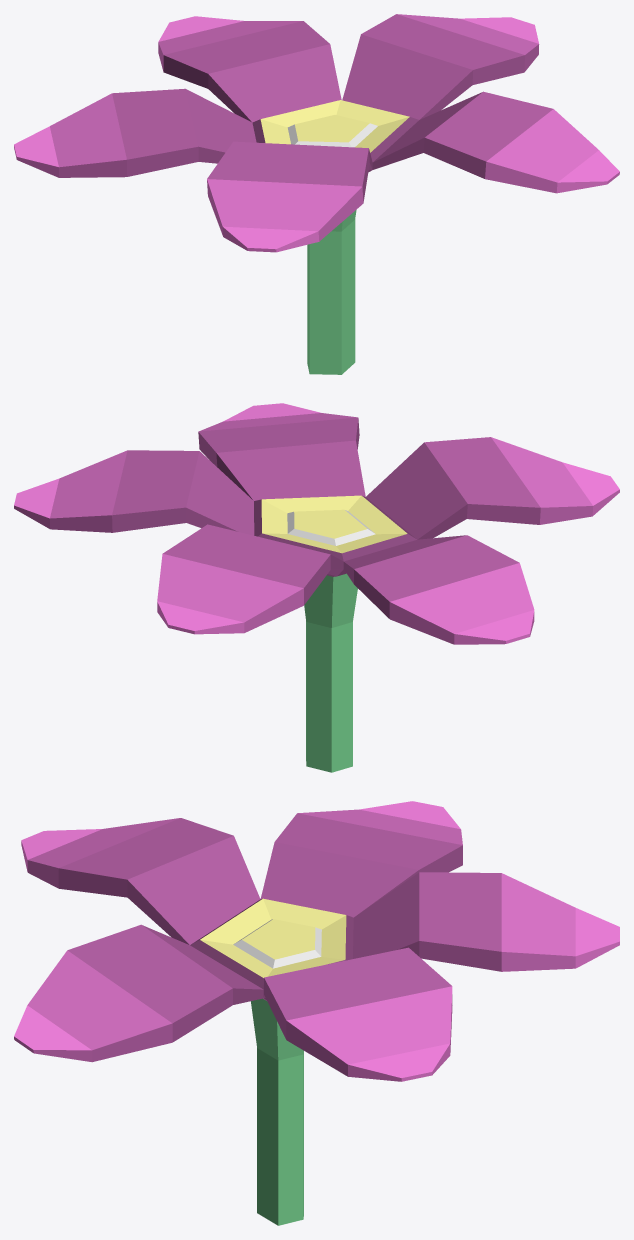
Rendered from Flower1.fbx.
3 views of the same model, one above another, from view 1: azimuth 30°, elevation 25°; view 2: azimuth 150°, elevation 25°; view 3: azimuth 270°, elevation 25° (orthographic). The views are drawn at different scales.
Visible parts, largest first — view 1: Cube; view 2: Cube; view 3: Cube.
Part boxes in pixels (x1,y1,x2,y2): Cube: (14, 14, 619, 374); Cube: (14, 403, 619, 772); Cube: (14, 801, 619, 1225).
Size of the model in its own units: 757 by 387 by 671.
